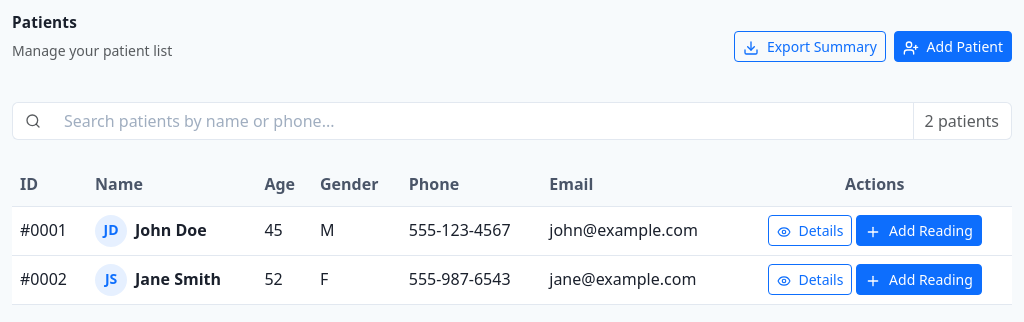
Patients › filters patients by search term
Check: the text "John Doe" is shown, box x1=135 y1=218 x2=207 y2=243
Type "Jane" into the field with placeholder "Search patients by name or phone...". click: (483, 121)
box: x1=52 y1=102 x2=914 y2=140
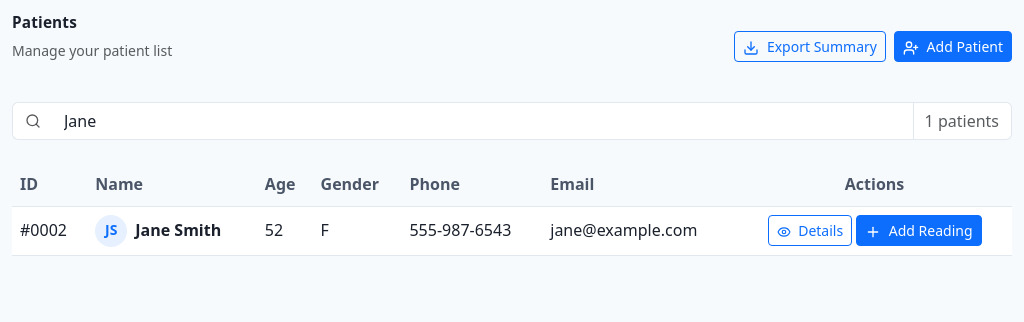
Check: the text "Jane Smith" is shown, box x1=135 y1=218 x2=221 y2=243
Check: the text "John Doe" is gone
